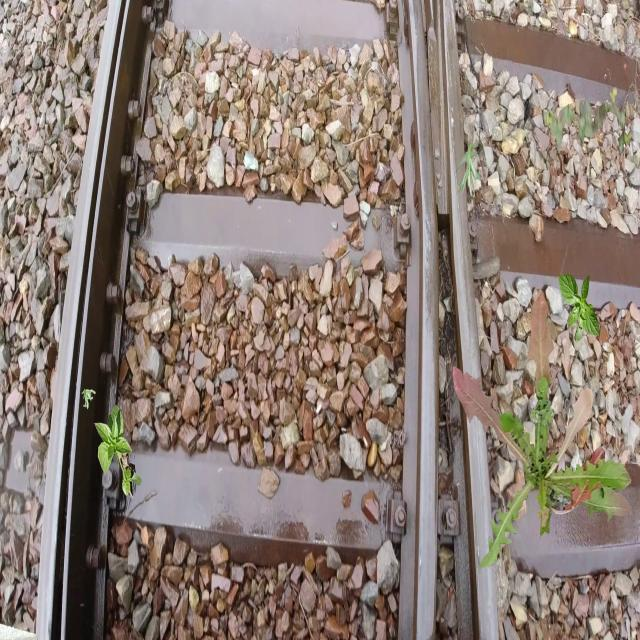Plant: (453, 292, 633, 570), (545, 87, 632, 156), (94, 404, 142, 499), (558, 272, 600, 343), (455, 142, 482, 198), (531, 386, 555, 427), (82, 389, 96, 409)
